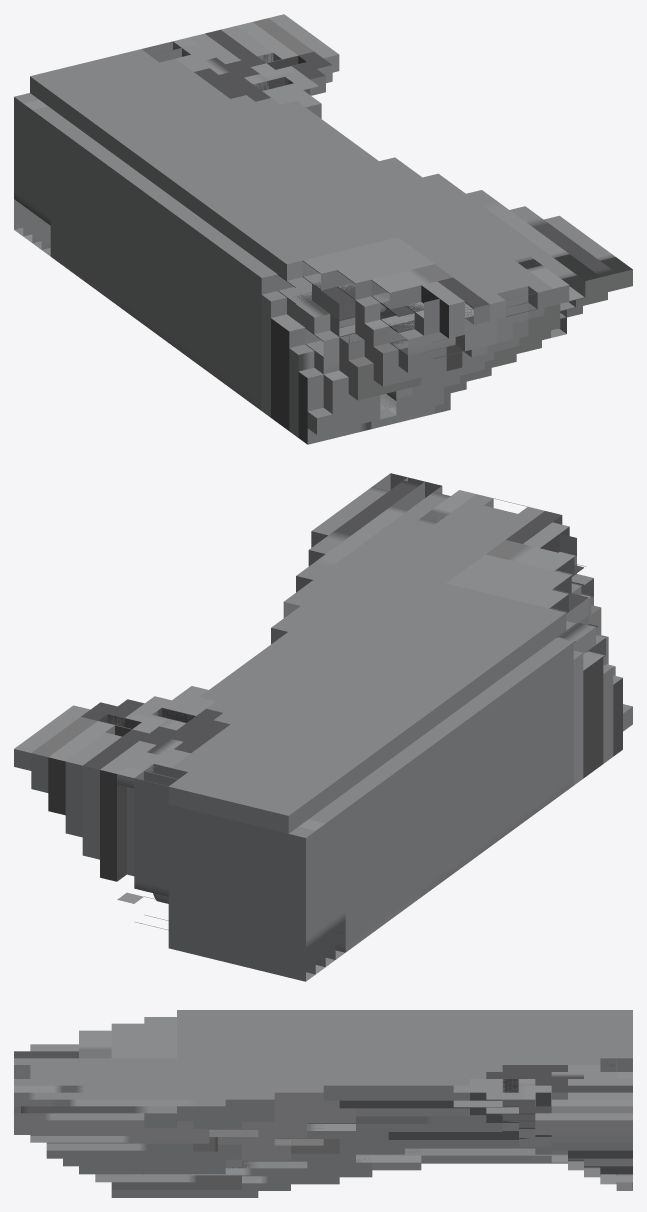
The picture shows the model from 3 angles, top to bottom: view 1: azimuth 30°, elevation 25°; view 2: azimuth 150°, elevation 25°; view 3: azimuth 270°, elevation 25°; orthographic projection. The views are drawn at different scales.
Size of the model in its own units: 1.06 by 0.5625 by 2.38.
